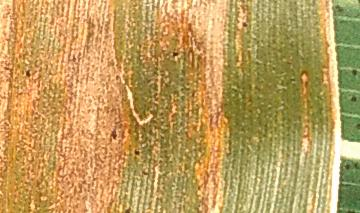tarspot: (106, 124, 121, 143), (168, 47, 181, 61), (22, 65, 34, 80), (131, 145, 143, 159), (238, 18, 250, 31), (121, 202, 135, 213)
